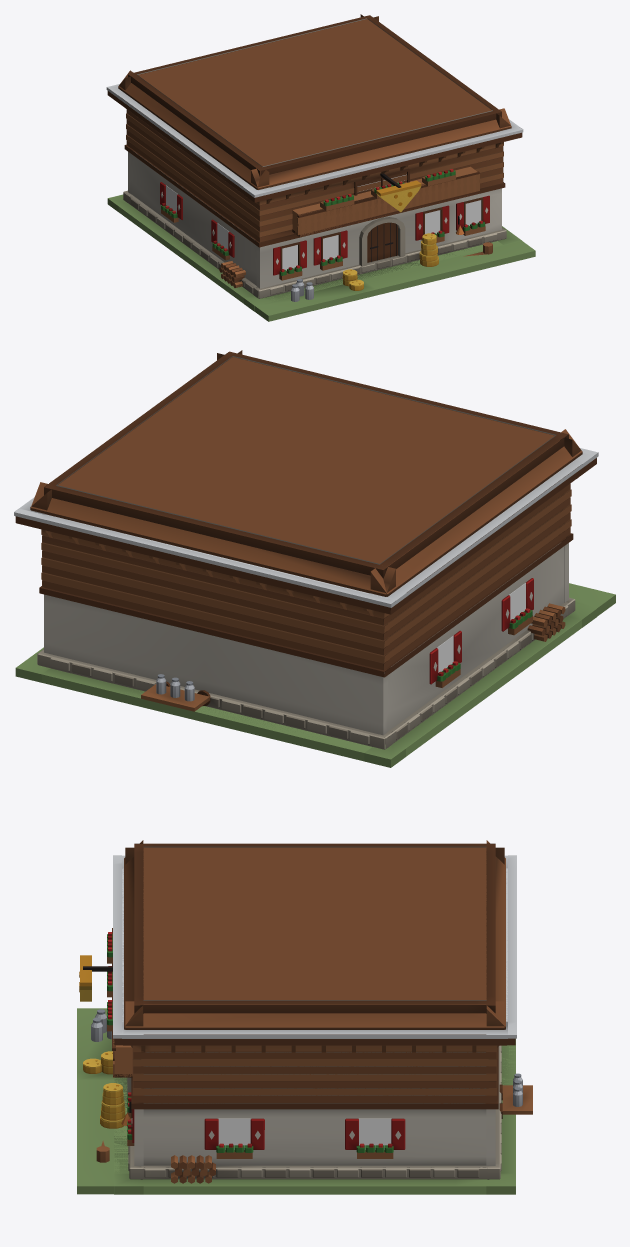
Rendered from LiveCheeseMonsterFloor.fbx.
3 views of the same model, one above another, from view 1: azimuth 30°, elevation 25°; view 2: azimuth 150°, elevation 25°; view 3: azimuth 270°, elevation 25° (orthographic). The views are drawn at different scales.
Visible parts, largest first — view 1: CH_S_All, CH_F_Smooth, CH_F_Rings, CH_F_Quiet, CH_F_Props, CH_F_Glass; view 2: CH_S_All, CH_F_Rings, CH_F_Smooth, CH_F_Quiet, CH_F_Glass; view 3: CH_S_All, CH_F_Rings, CH_F_Smooth, CH_F_Quiet, CH_F_Glass, CH_F_Props.
Boxes of the visible parts, <box> form: CH_S_All: <box>110,19,521,311</box>; CH_F_Smooth: <box>106,87,535,321</box>; CH_F_Rings: <box>107,14,522,298</box>; CH_F_Quiet: <box>108,15,535,315</box>; CH_F_Props: <box>343,186,492,290</box>; CH_F_Glass: <box>166,174,481,270</box>; CH_S_All: <box>16,357,595,767</box>; CH_F_Rings: <box>14,350,597,749</box>; CH_F_Smooth: <box>14,452,615,767</box>; CH_F_Quiet: <box>16,351,615,758</box>; CH_F_Glass: <box>437,583,525,672</box>; CH_S_All: <box>113,847,515,1194</box>; CH_F_Rings: <box>113,840,516,1178</box>; CH_F_Smooth: <box>77,855,532,1194</box>; CH_F_Quiet: <box>77,843,515,1186</box>; CH_F_Glass: <box>218,1118,391,1149</box>; CH_F_Props: <box>80,986,131,1162</box>.
Size of the model in its own units: 60 by 20 by 60.
